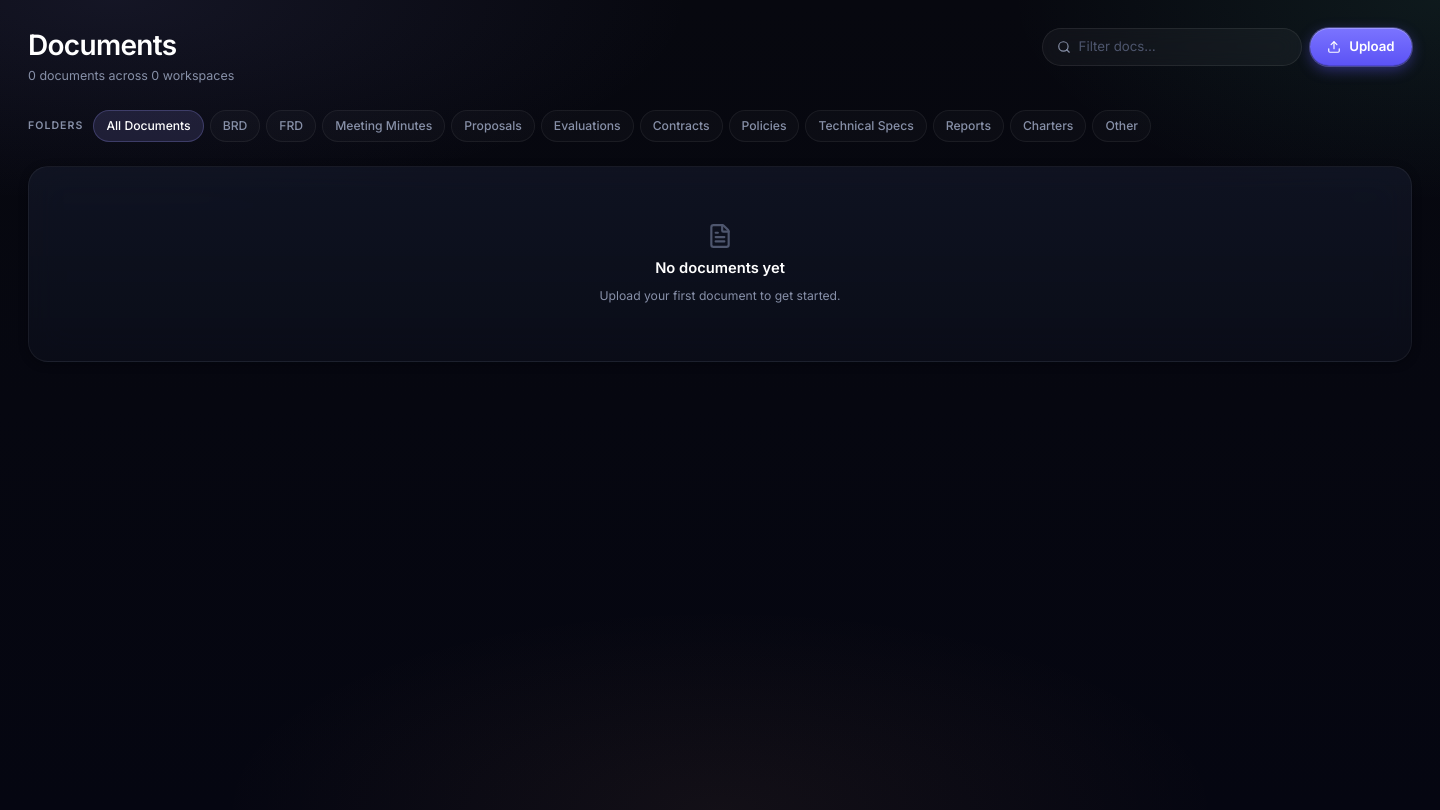
Test: Documents – Upload modal › closes upload modal on Cancel
The image size is (1440, 810).
Step 1. Click the button "Upload" → {"x": 1361, "y": 47}, box x1=1310 y1=28 x2=1412 y2=66
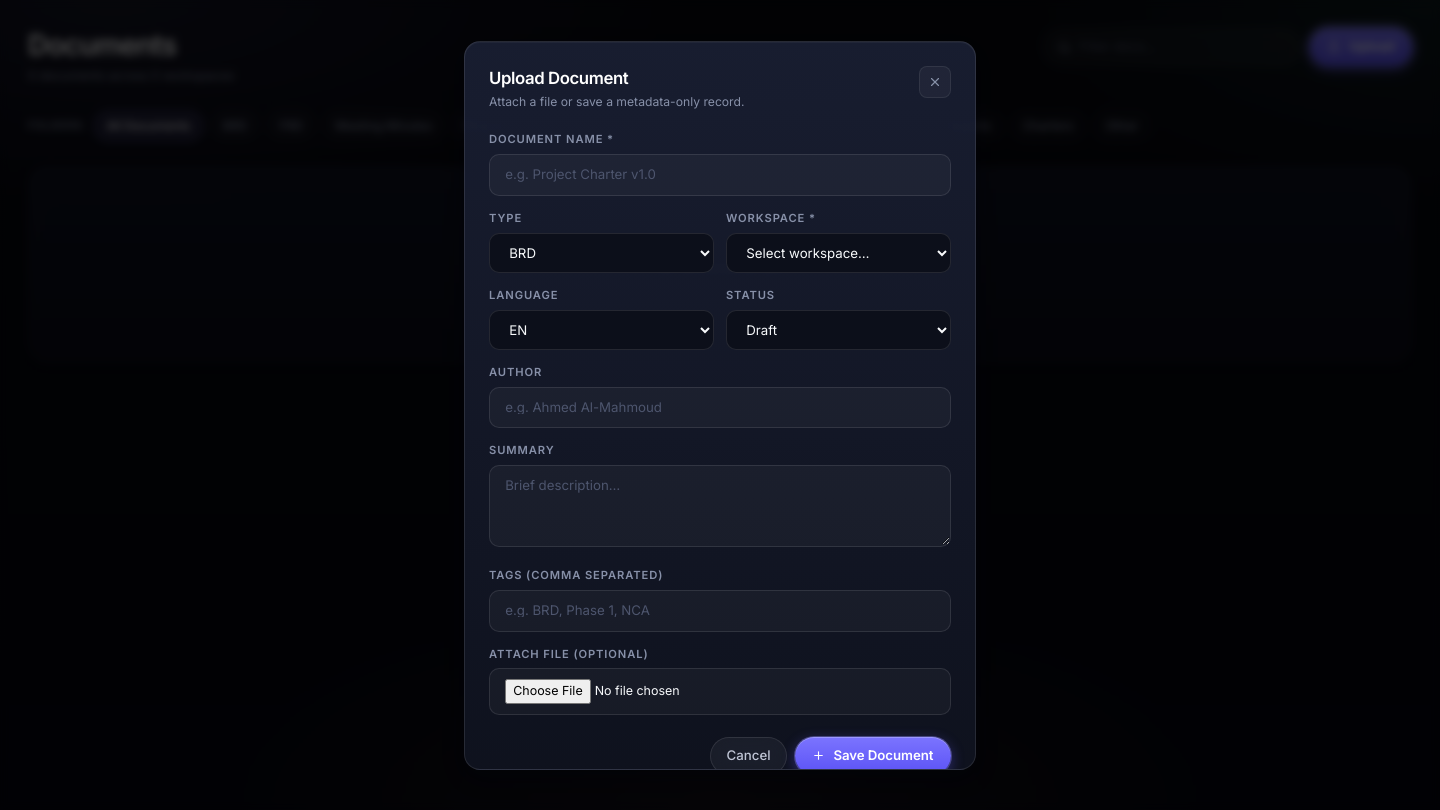
Step 2. Click the button "Cancel" → {"x": 749, "y": 756}, box x1=710 y1=737 x2=787 y2=775
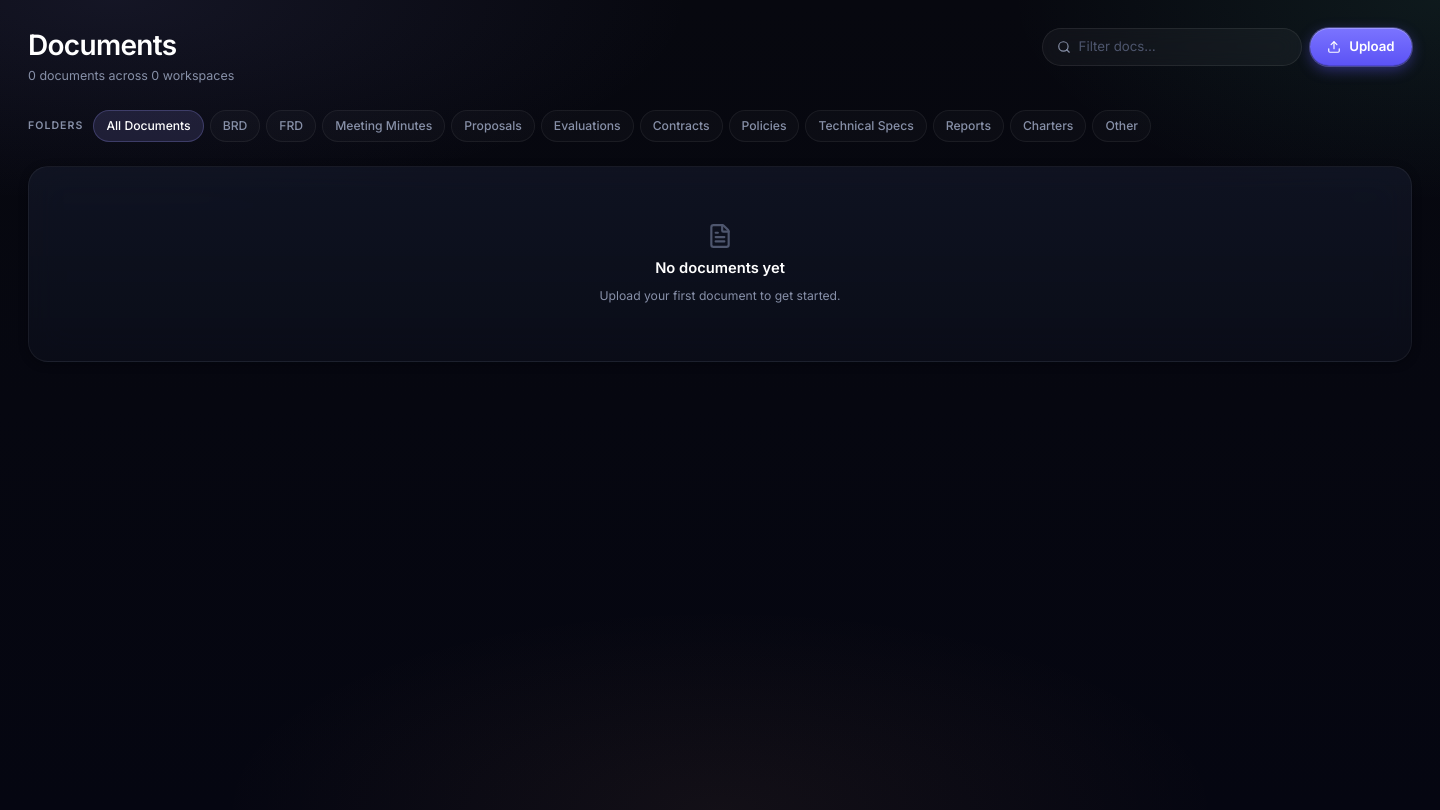
Expected: the text "Upload Document" is gone
